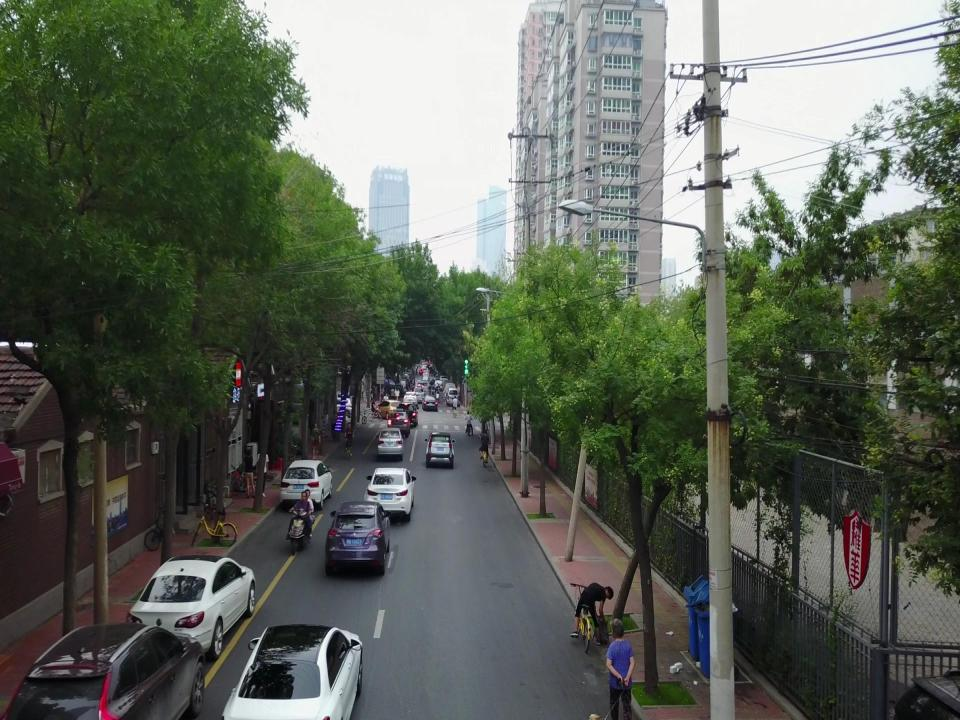car: (3, 622, 203, 720), (220, 623, 368, 720), (127, 556, 257, 655), (323, 500, 389, 573), (606, 617, 635, 718), (364, 466, 416, 522), (281, 459, 332, 507), (189, 505, 237, 550), (423, 431, 455, 469), (376, 430, 405, 458), (388, 408, 410, 437), (396, 402, 419, 426), (378, 401, 402, 420), (331, 399, 353, 416), (422, 395, 438, 412), (403, 391, 417, 406), (415, 381, 424, 392), (422, 376, 430, 384), (431, 378, 439, 385)
van: (443, 382, 457, 398), (447, 388, 459, 405), (412, 386, 424, 400)
